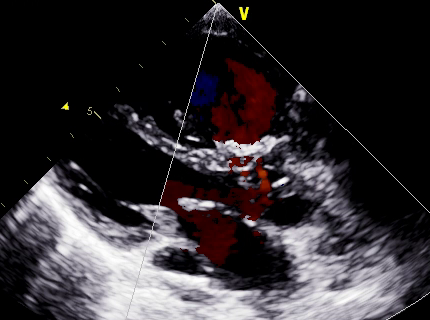AR: (182, 160, 277, 220)
